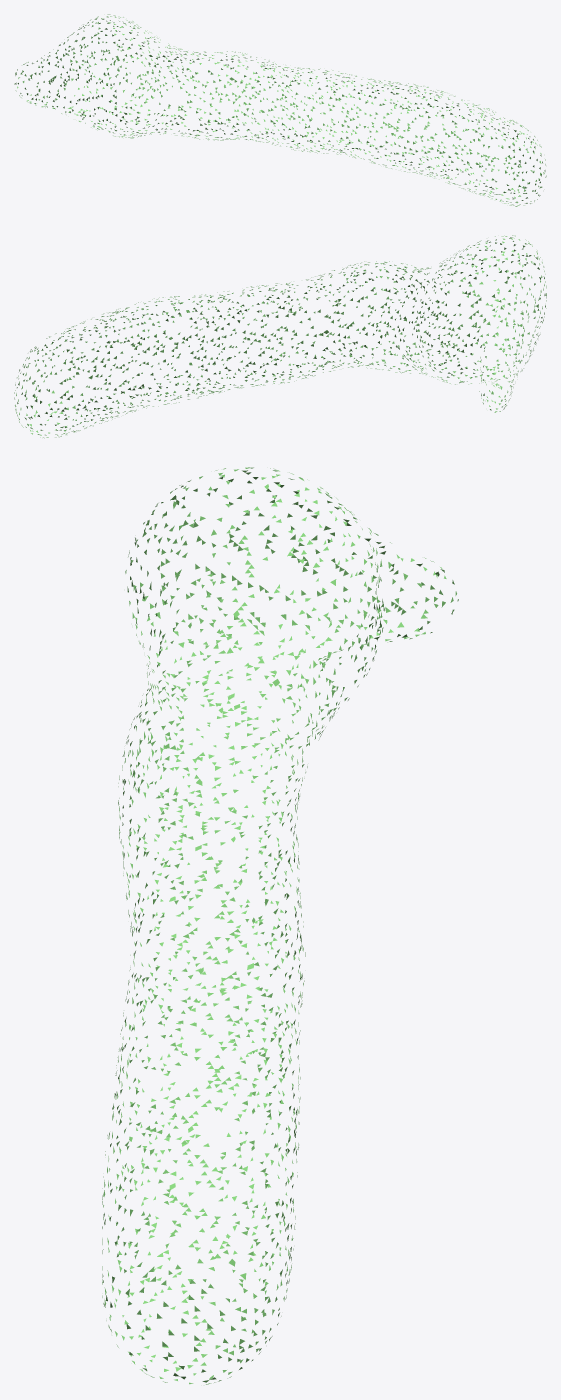
Rendered from morph_016.glb.
3 views of the same model, one above another, from view 1: azimuth 30°, elevation 25°; view 2: azimuth 150°, elevation 25°; view 3: azimuth 270°, elevation 25° (orthographic). The views are drawn at different scales.
Size of the model in its own units: 121 by 67.1 by 40.86.
